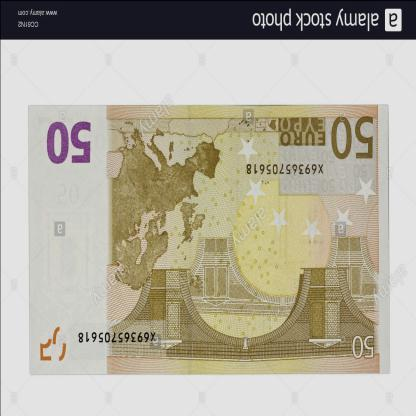euro_banknote: (29, 106, 390, 375)
